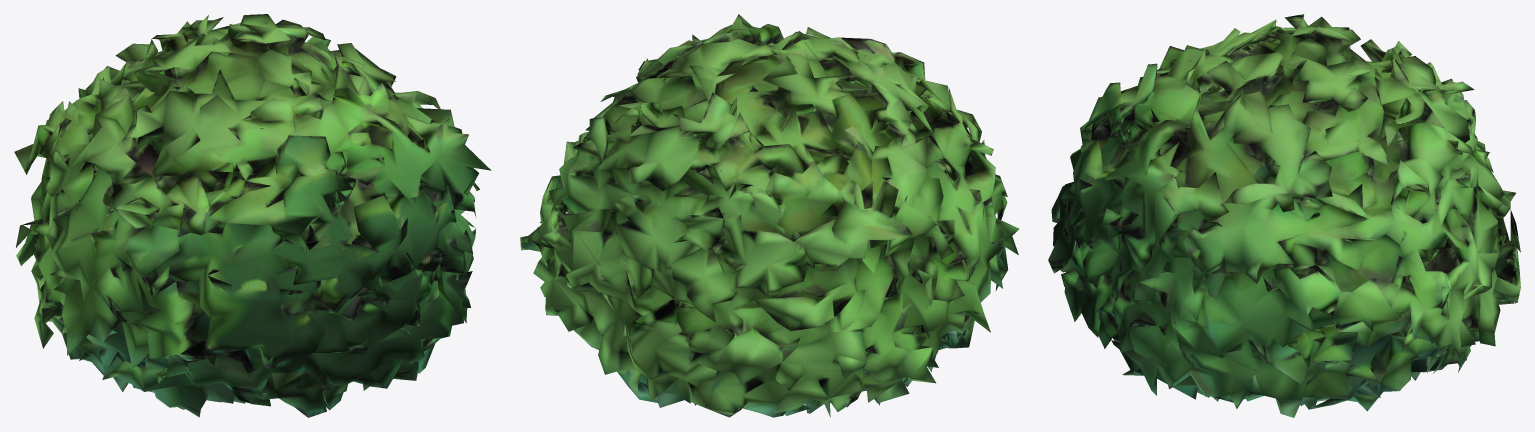
File: bush_shrub.glb
The picture shows the model from 3 angles, left to right: view 1: azimuth 30°, elevation 25°; view 2: azimuth 150°, elevation 25°; view 3: azimuth 270°, elevation 25°; orthographic projection.
Bounding box in the file's own units: 1.97 × 1.57 × 2.
Materials: 1 (1 with a texture image).
